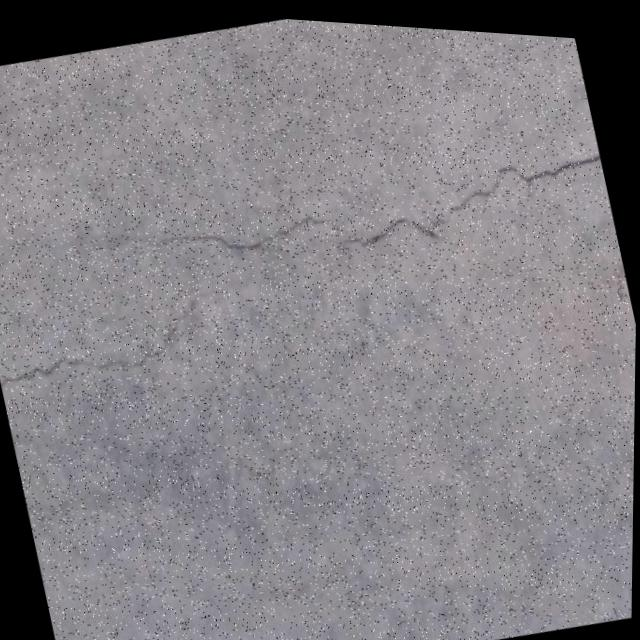Crack: (98, 110, 609, 317), (0, 300, 223, 414)
